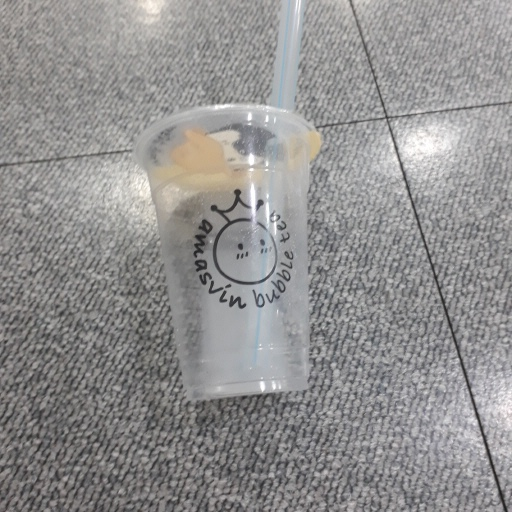Plastic_2: (135, 2, 335, 400)
